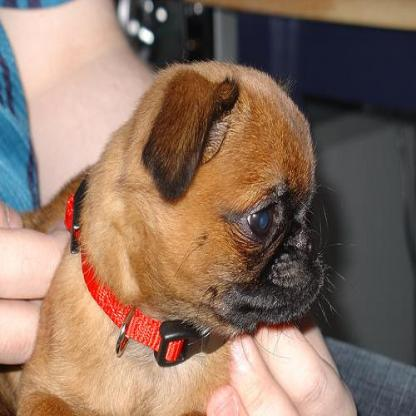Brabancon_griffon: (0, 59, 331, 414)
